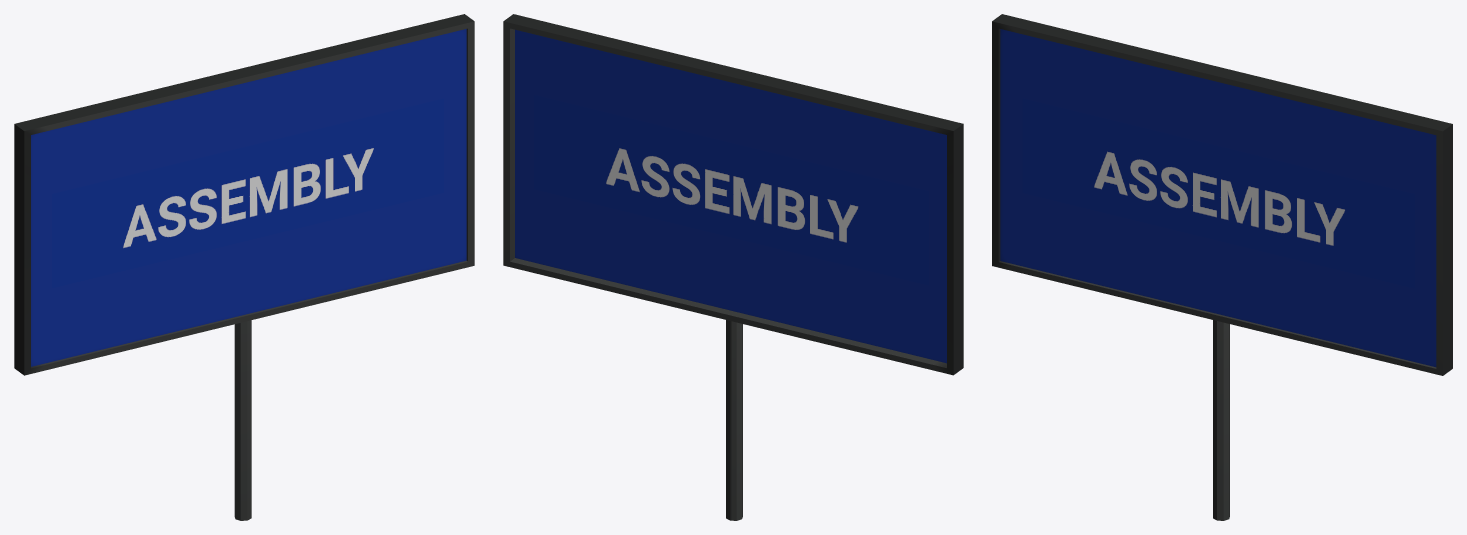
The model's file is model billboard.fbx.
The picture shows the model from 3 angles, left to right: view 1: azimuth 30°, elevation 25°; view 2: azimuth 150°, elevation 25°; view 3: azimuth 330°, elevation 25°; orthographic projection.
Parts seen in each view (by area): view 1: Plane.001, Plane, Cylinder; view 2: Plane.001, Plane, Cylinder; view 3: Plane.001, Plane, Cylinder.
Boxes of the visible parts, box(x1,y1,x2,y2) form: Plane.001: box(31, 29, 466, 366); Plane: box(14, 14, 474, 375); Cylinder: box(234, 320, 251, 520); Plane.001: box(515, 29, 946, 363); Plane: box(503, 14, 963, 375); Cylinder: box(726, 320, 742, 520); Plane.001: box(1000, 29, 1436, 367); Plane: box(992, 14, 1452, 375); Cylinder: box(1213, 320, 1229, 520).
Bounding box in the file's own units: 747 × 705 × 28.76.
3 materials, 3 textured.
